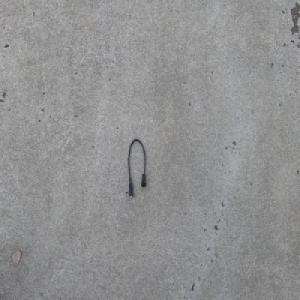Wire: (127, 137, 146, 198)
